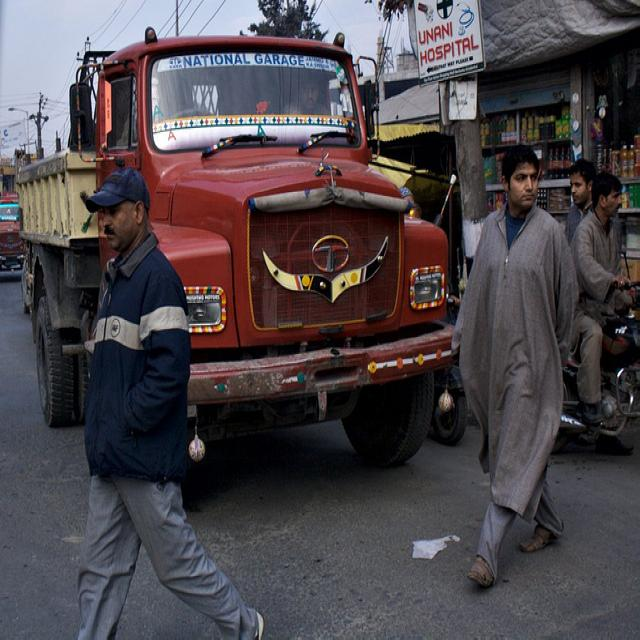motor: (556, 283, 639, 450)
